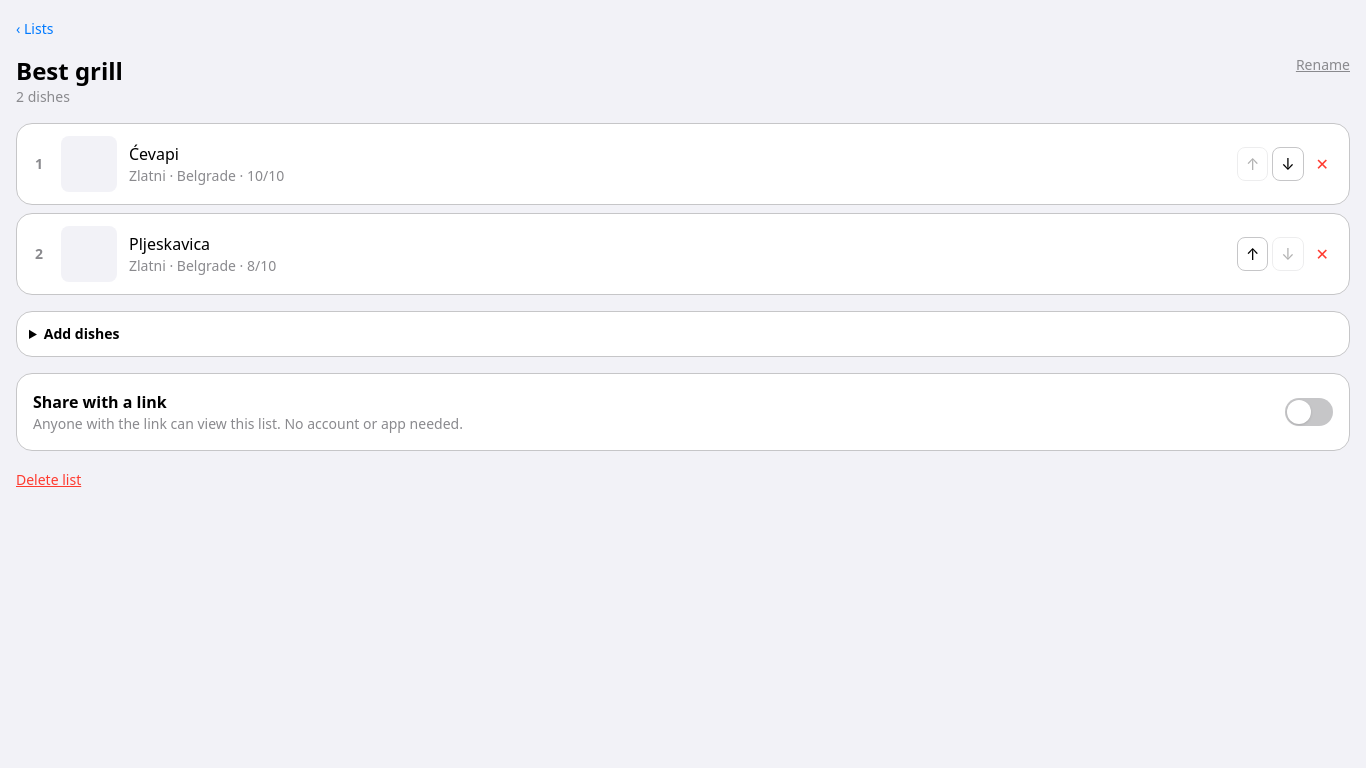
Test: ListDetailPage: sharing › turning sharing on shows the public link and what visitors will see
What coordinates should you click on to do the following:
click the switch named "Share with a link"
I would click on:
 (1309, 412)
Its box is [1285, 398, 1333, 426].
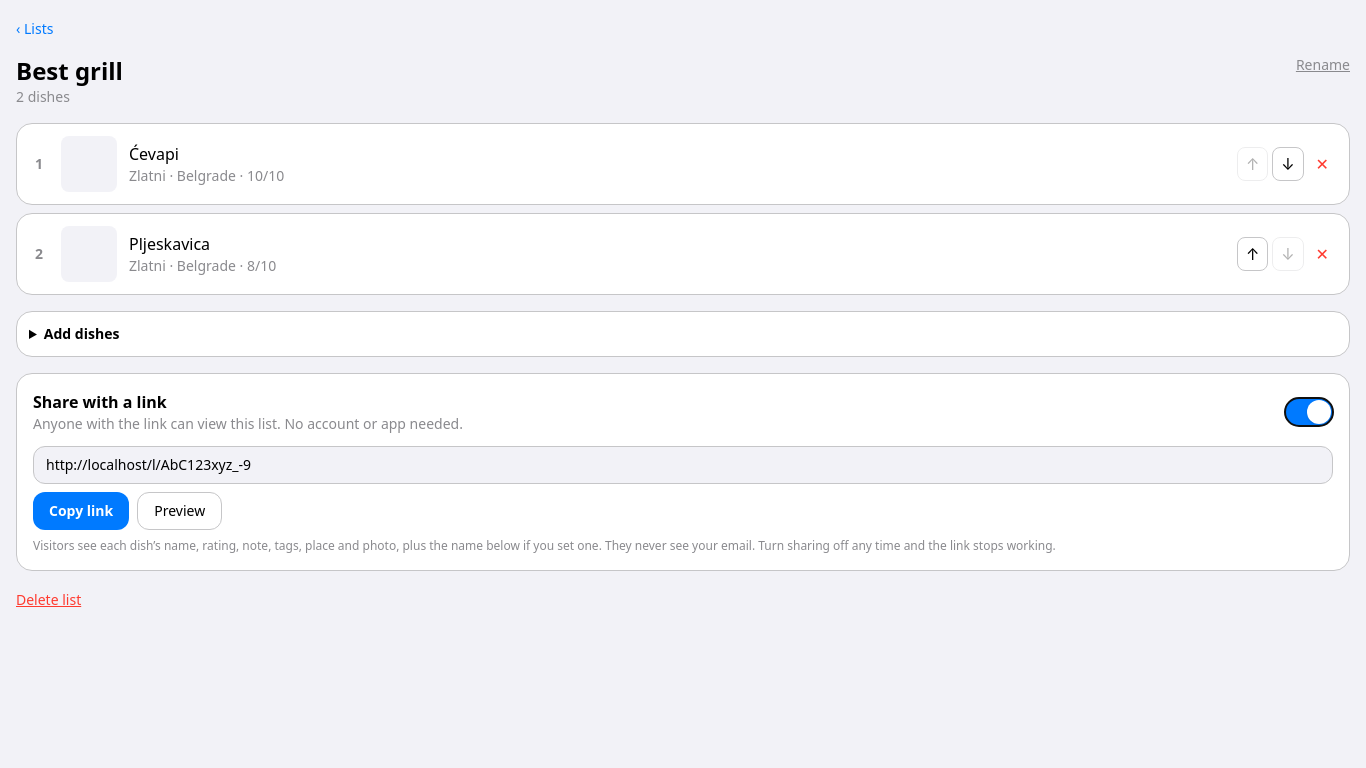
expect the text "never see your email" is shown: met, box [33, 537, 1056, 554]
